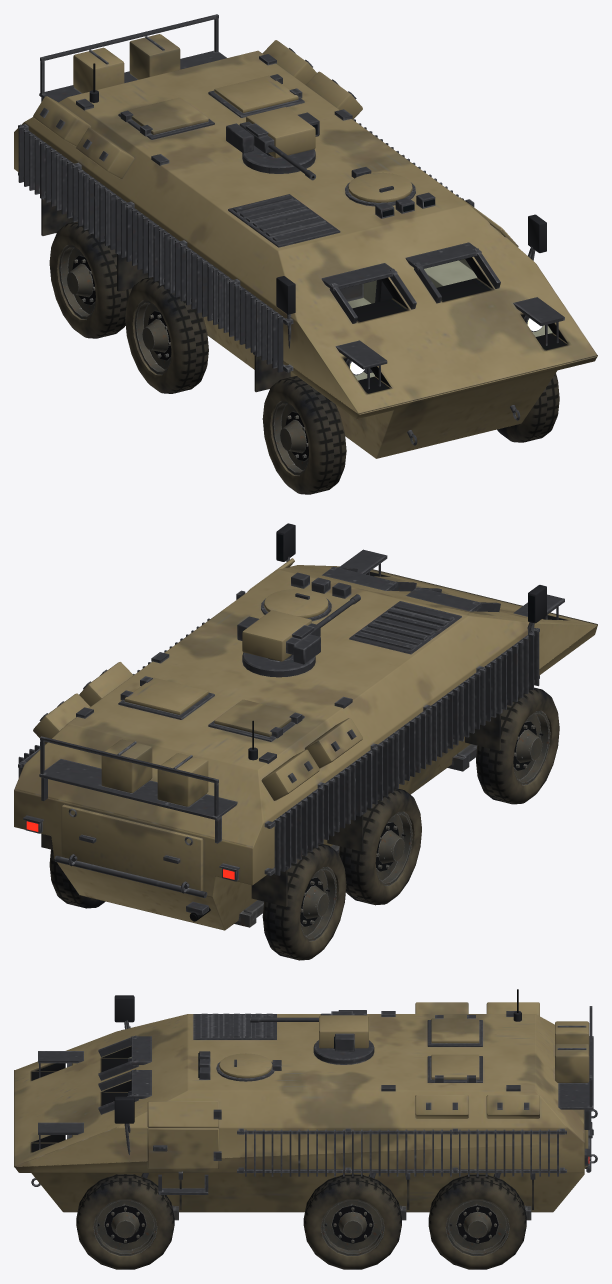
File: apc.glb
3 renders of one model, top to bottom at view 1: azimuth 30°, elevation 25°; view 2: azimuth 150°, elevation 25°; view 3: azimuth 270°, elevation 25°, orthographic. The views are drawn at different scales.
Visible parts, largest first — view 1: body, wheel_fl, wheel_ml, wheel_rl, wheel_fr; view 2: body, wheel_rl, wheel_fl, wheel_ml, wheel_rr; view 3: body, wheel_rr, wheel_mr, wheel_fr.
Part boxes in pixels (bbox=[...]): body: bbox=[14, 14, 597, 458]; wheel_fl: bbox=[262, 376, 346, 494]; wheel_ml: bbox=[125, 277, 208, 393]; wheel_rl: bbox=[49, 221, 131, 338]; wheel_fr: bbox=[497, 373, 559, 442]; body: bbox=[14, 523, 597, 930]; wheel_rl: bbox=[262, 843, 346, 960]; wheel_fl: bbox=[476, 687, 559, 804]; wheel_ml: bbox=[339, 788, 421, 905]; wheel_rr: bbox=[49, 849, 105, 908]; body: bbox=[14, 989, 597, 1220]; wheel_rr: bbox=[428, 1174, 526, 1269]; wheel_mr: bbox=[303, 1174, 401, 1269]; wheel_fr: bbox=[76, 1174, 174, 1269].
Size of the model in its own units: 2.79 by 2.49 by 6.55.
Materials: 2 (2 with a texture image).
